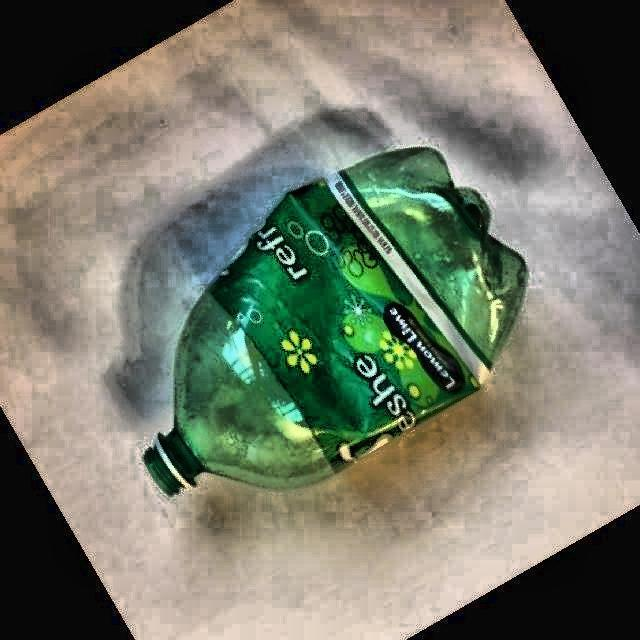plastic: (144, 148, 526, 494)
